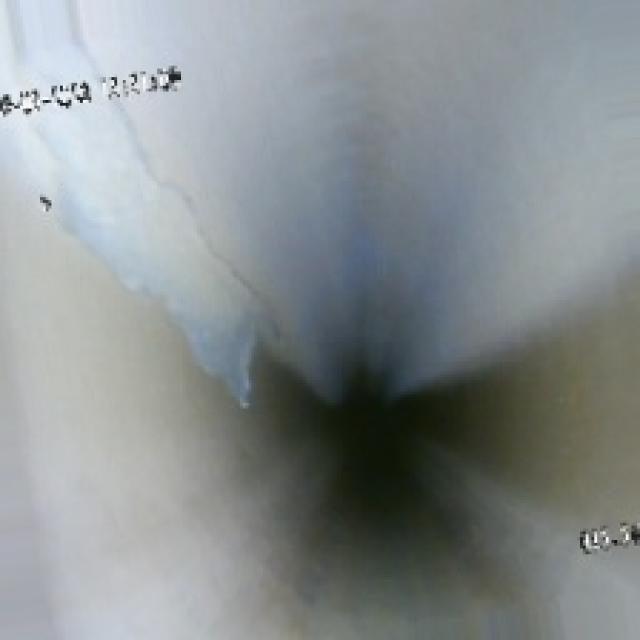pipe_surface_damage: (63, 114, 251, 403)
